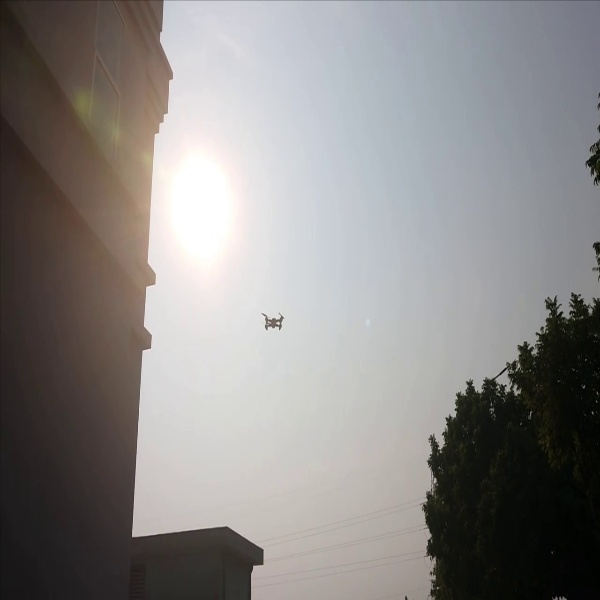drone: (257, 302, 290, 338)
